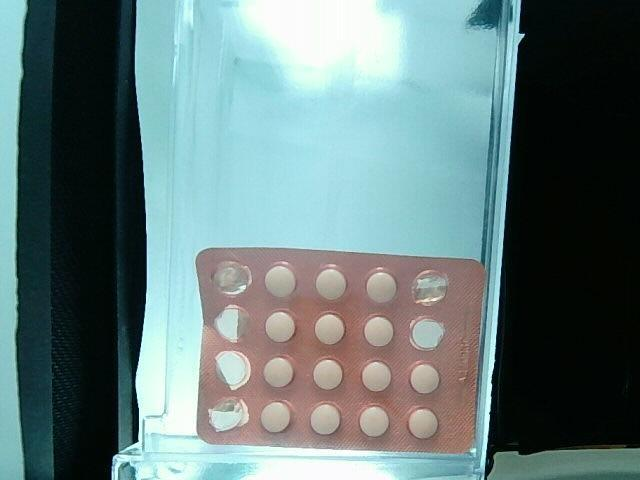Light Front: (193, 247, 492, 457)
No Pill Front: (215, 351, 250, 389), (411, 270, 448, 305), (213, 261, 251, 294), (214, 305, 247, 341), (209, 399, 247, 430), (410, 318, 445, 350)
Pill Front: (314, 264, 349, 300), (265, 261, 298, 297), (365, 269, 396, 302), (310, 403, 341, 436), (405, 408, 437, 439), (359, 405, 390, 437), (315, 313, 345, 344), (261, 401, 291, 432), (364, 315, 394, 345), (265, 311, 295, 341), (361, 361, 391, 391), (314, 359, 344, 389), (264, 358, 294, 387), (410, 364, 438, 394)
